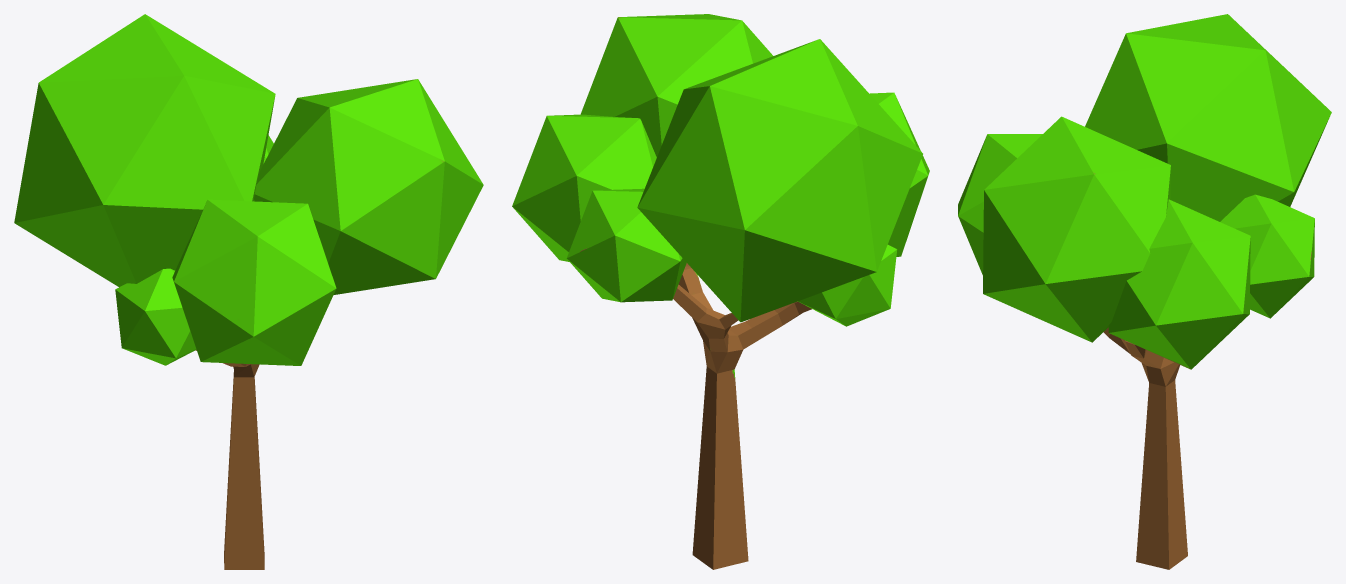
The model's file is Tree 3.fbx.
3 renders of one model, left to right at view 1: azimuth 30°, elevation 25°; view 2: azimuth 150°, elevation 25°; view 3: azimuth 270°, elevation 25°, orthographic. The views are drawn at different scales.
Visible parts, largest first — view 1: Tree; view 2: Tree; view 3: Tree.
Boxes of the visible parts, x1,y1,x2,y2 form: Tree: [14, 14, 483, 569]; Tree: [512, 14, 929, 569]; Tree: [958, 14, 1331, 569].
Size of the model in its own units: 749 by 982 by 680.
